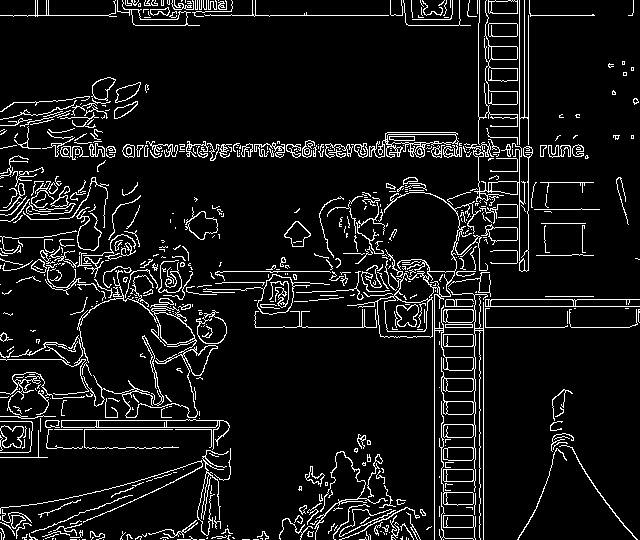left: (182, 208, 222, 244), (351, 215, 393, 244)
up: (461, 206, 497, 241), (281, 219, 315, 253)
